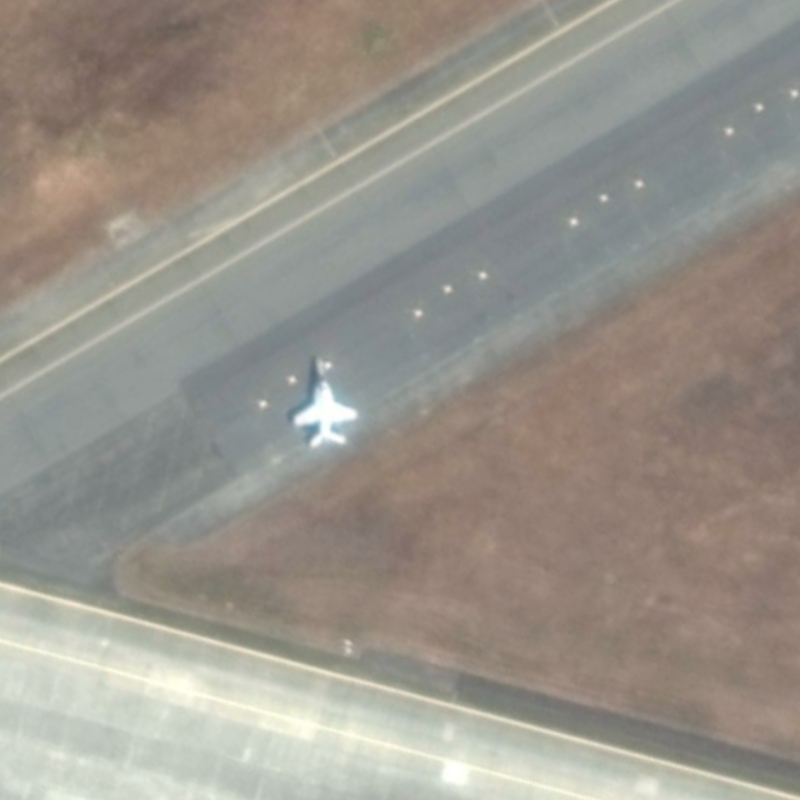A16: (285, 346, 367, 453)
